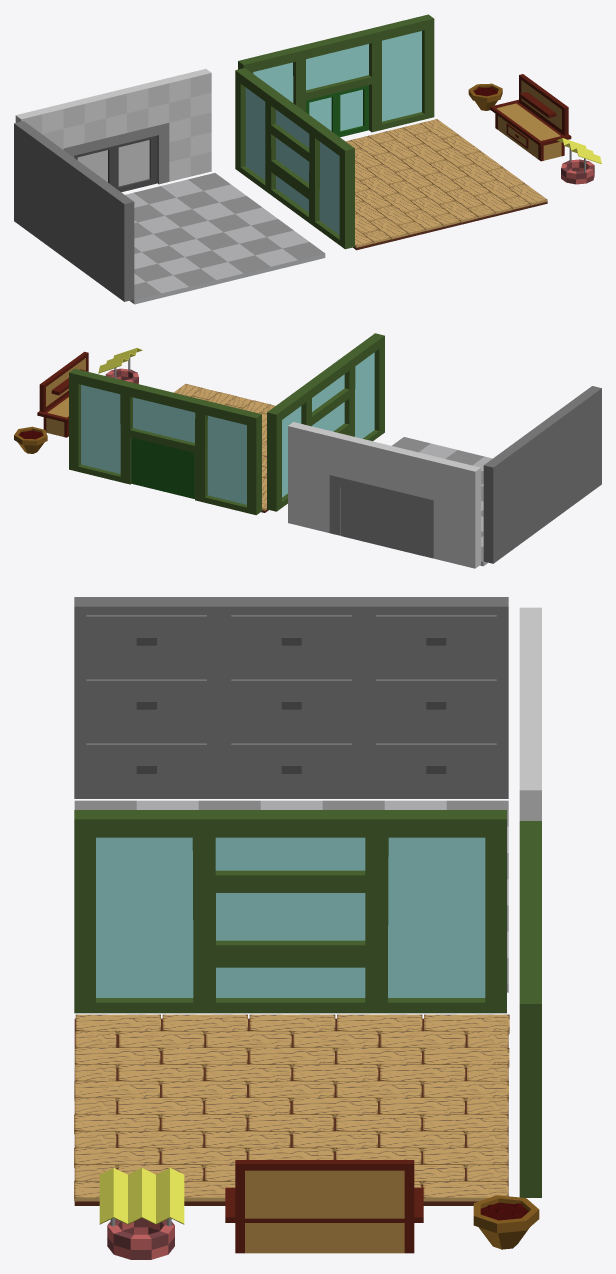
File: Escenario jardin.fbx
3 views of the same model, one above another, from view 1: azimuth 30°, elevation 25°; view 2: azimuth 150°, elevation 25°; view 3: azimuth 270°, elevation 25° (orthographic). The views are drawn at different scales.
Visible parts, largest first — view 1: Madera, Baldosa, PuerInver, PuerMorgue, ParedMorgue, ParedInver, Mesa, Pozo, Mazeta; view 2: PuerMorgue, PuerInver, ParedMorgue, ParedInver, Mesa, Madera, Baldosa, Pozo, Mazeta; view 3: ParedInver, ParedMorgue, Madera, Mesa, PuerInver, Pozo, PuerMorgue, Baldosa, Mazeta.
Part boxes in pixels (x1,y1,x2,y2): Madera: (346,119,547,250); Baldosa: (125,173,325,304); PuerInver: (238,14,434,137); PuerMorgue: (15,69,211,192); ParedMorgue: (14,121,134,301); ParedInver: (235,68,354,249); Mesa: (490,74,571,161); Pozo: (557,138,601,184); Mazeta: (468,83,502,110); PuerMorgue: (288,422,480,568); PuerInver: (69,368,261,515); ParedMorgue: (483,386,601,563); ParedInver: (267,333,384,511); Mesa: (37,351,88,437); Madera: (174,384,275,512); Baldosa: (392,437,492,566); Pozo: (98,348,142,383); Mazeta: (14,426,47,453); ParedInver: (74,810,506,1013); ParedMorgue: (74,597,508,798); Madera: (74,1014,509,1205); Mesa: (225,1160,423,1253); PuerInver: (519,821,541,1197); Pozo: (99,1168,184,1259); PuerMorgue: (519,607,541,820); Baldosa: (74,800,508,992); Mazeta: (473,1195,539,1249).
Size of the model in its own units: 9879 by 1999 by 4186.
23 materials, 1 textured.
